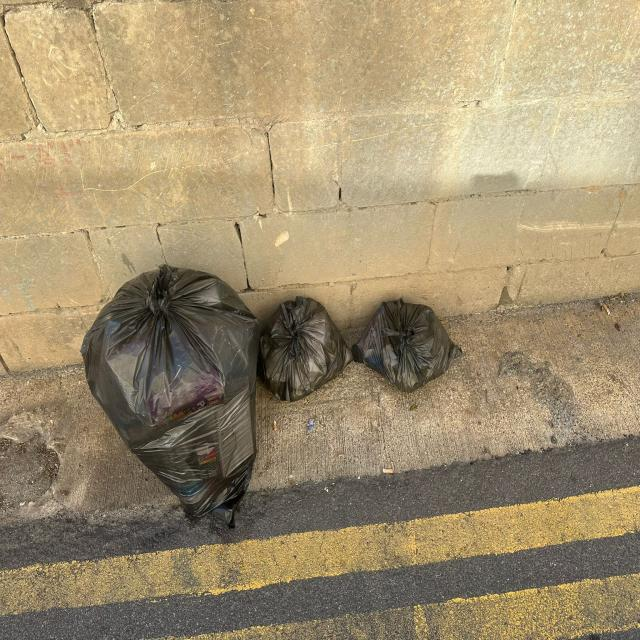black_bag: (78, 257, 262, 529), (351, 296, 468, 398), (261, 292, 350, 408)
